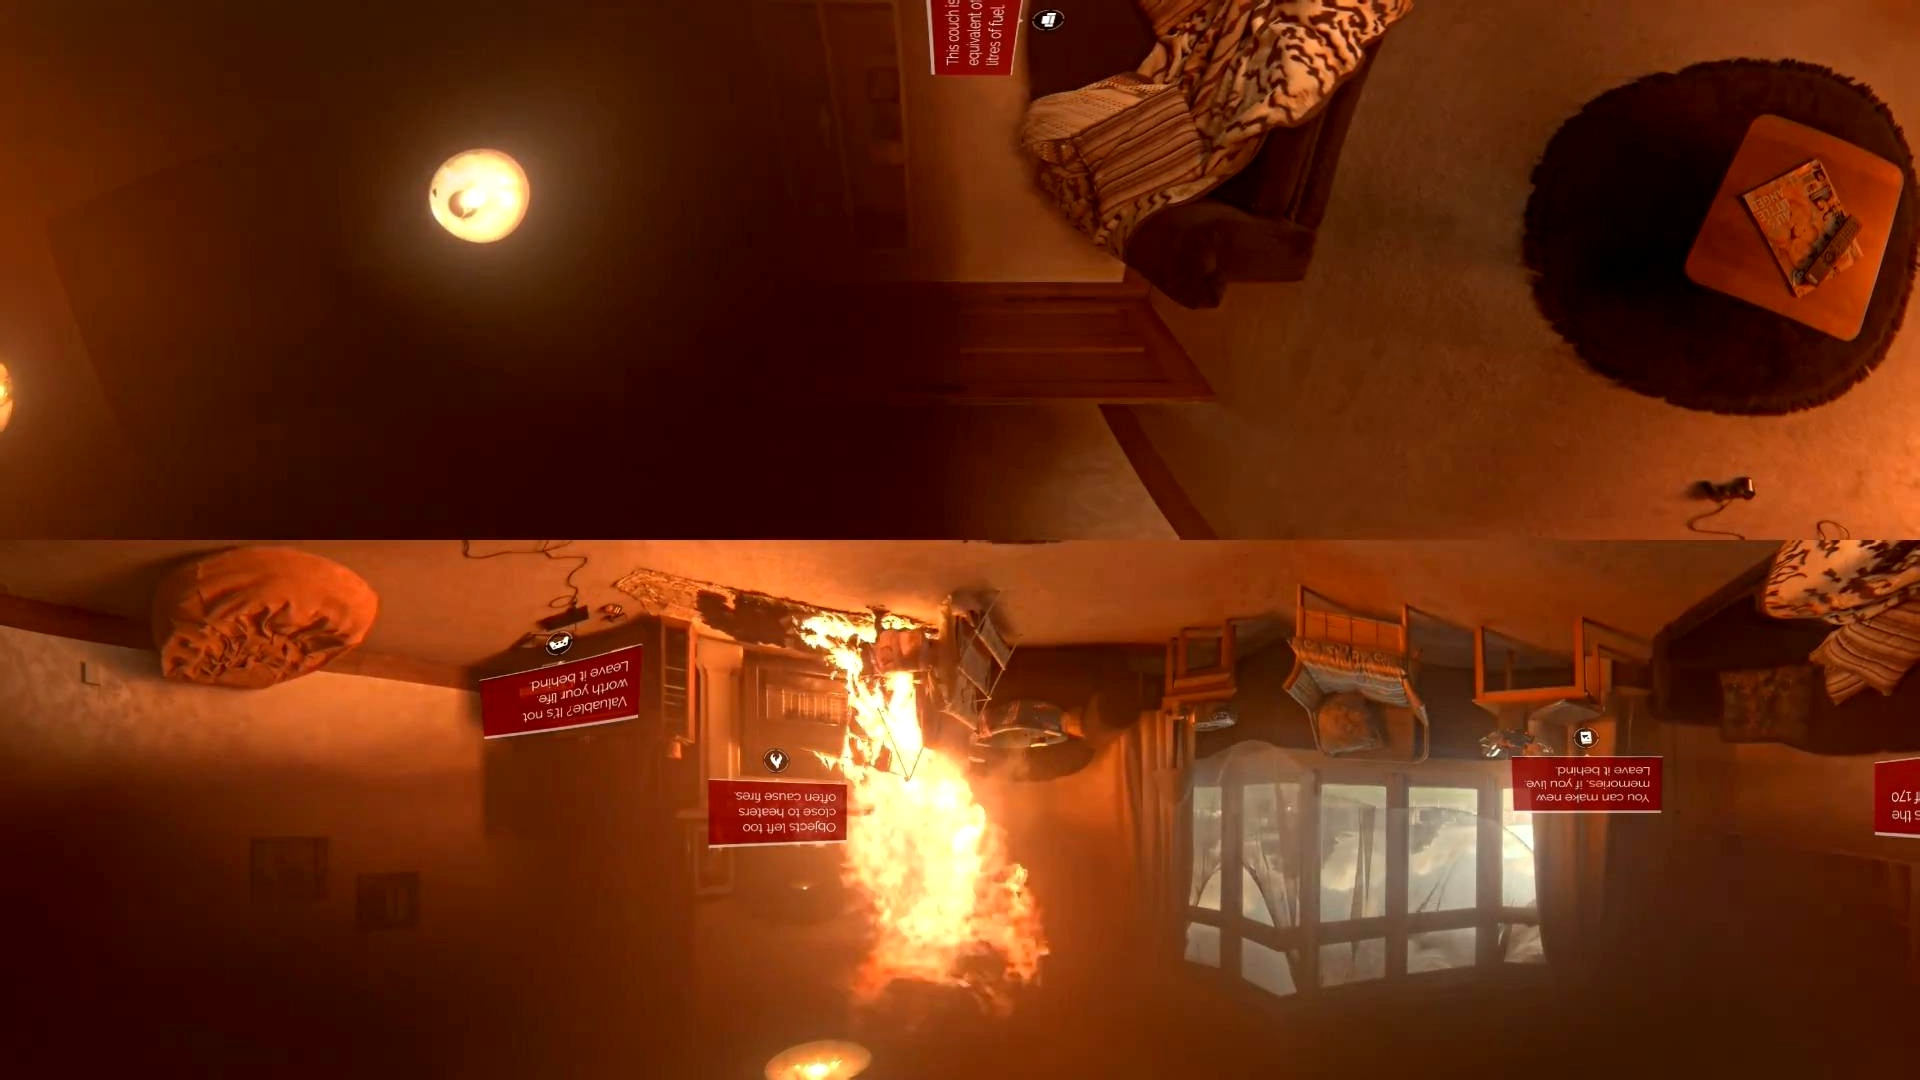fire: (802, 636, 1060, 1014)
